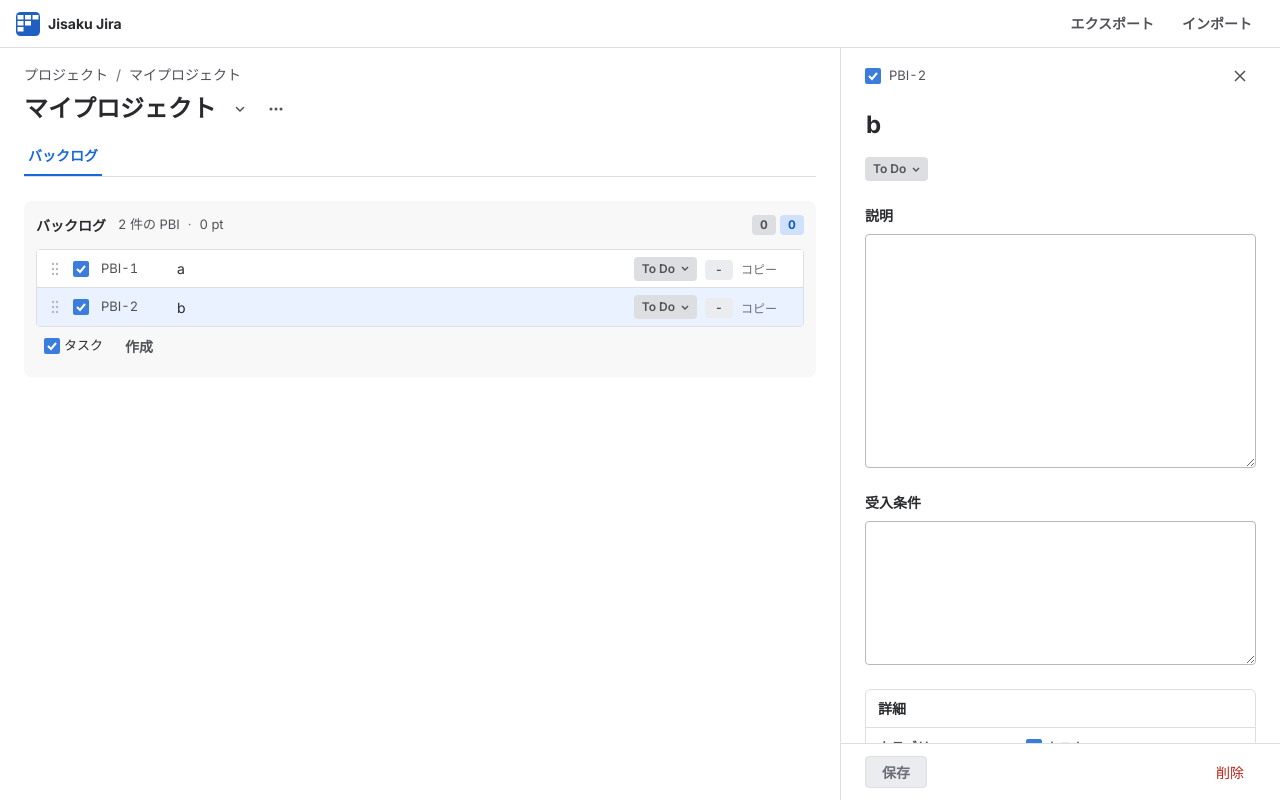
Test case: 削除 › 確認で取り消すと削除しない
Click the button "削除" at (1230, 772), box [1204,756,1256,788]
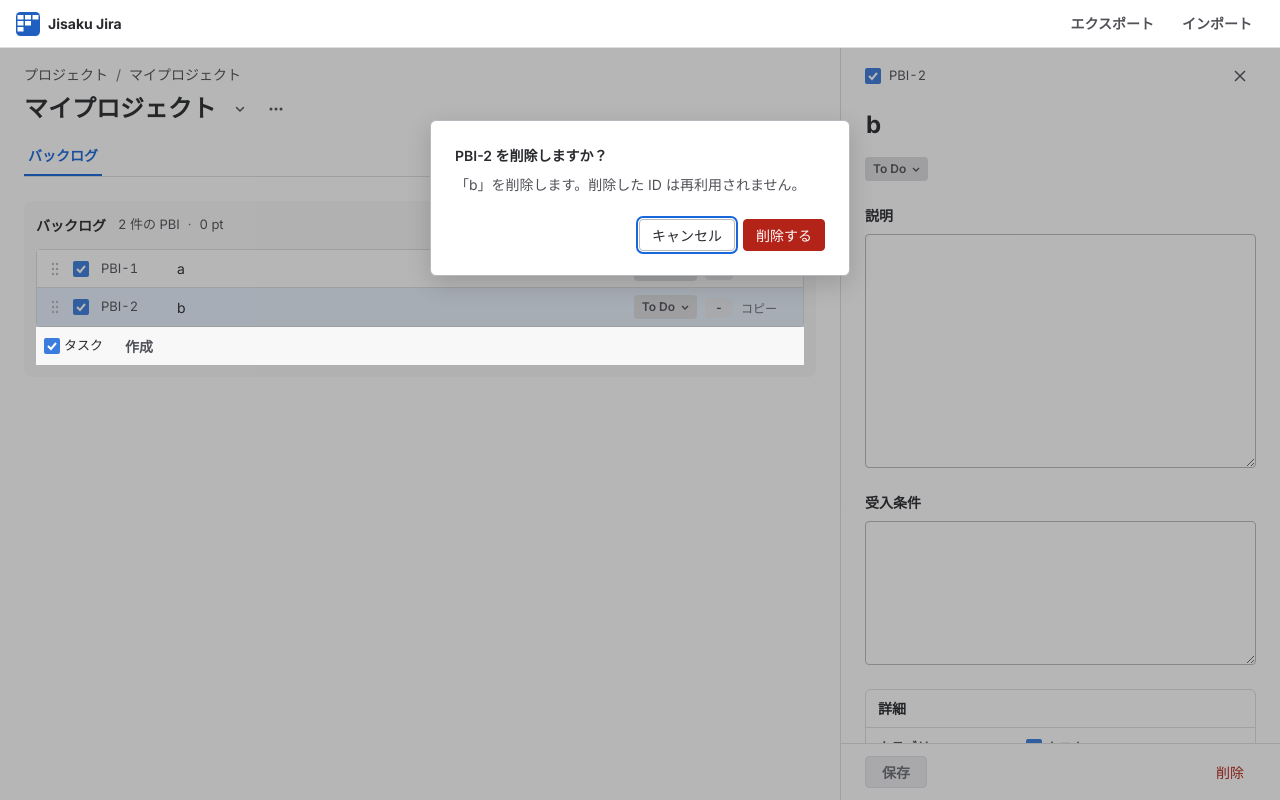
Click the button "キャンセル" at (687, 235), box [639,219,735,251]
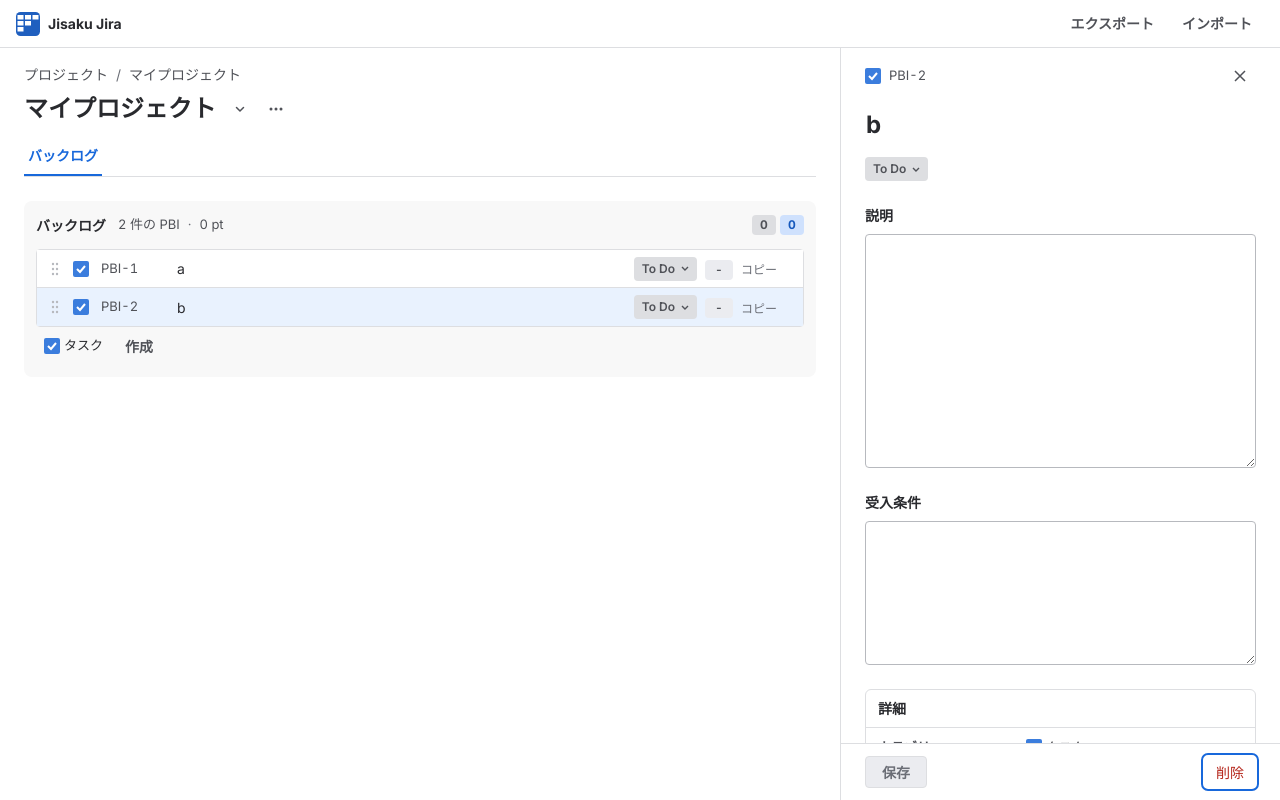
Expected: the dialog is gone
